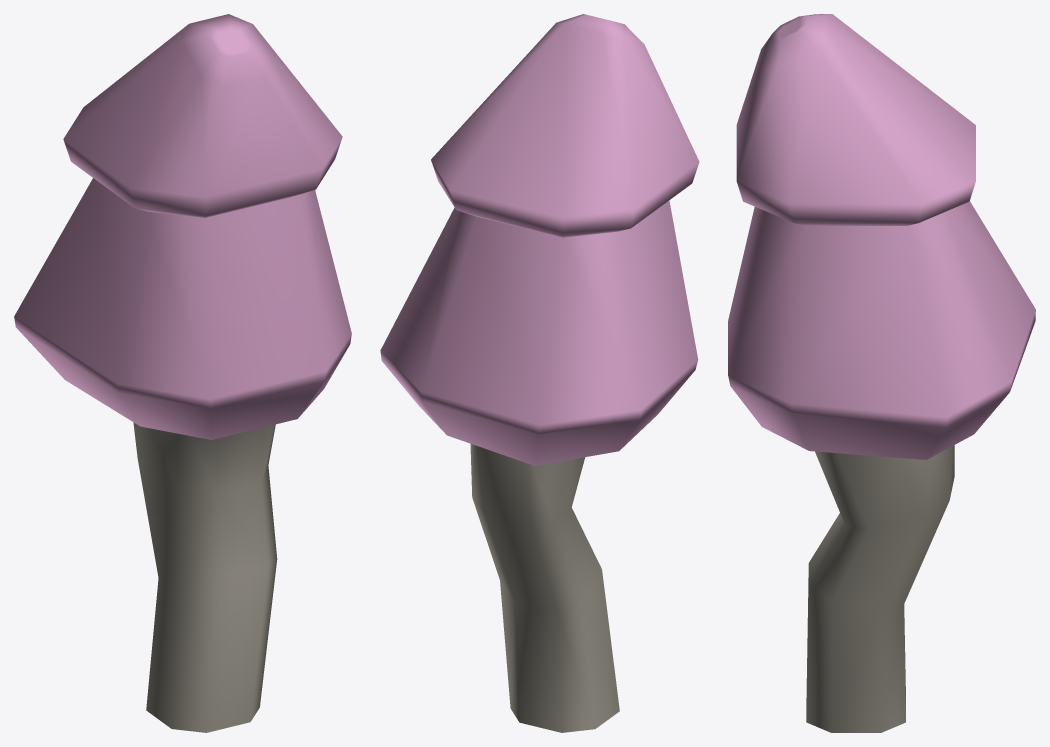
The model's file is Mushroom_01.fbx.
3 views of the same model, side by side, from view 1: azimuth 30°, elevation 25°; view 2: azimuth 150°, elevation 25°; view 3: azimuth 270°, elevation 25° (orthographic). The views are drawn at different scales.
Visible parts, largest first — view 1: Champi_01; view 2: Champi_01; view 3: Champi_01.
Part boxes in pixels (left/top/right/bottom): Champi_01: left=14, top=14, right=351, bottom=732; Champi_01: left=380, top=14, right=699, bottom=732; Champi_01: left=728, top=14, right=1035, bottom=732.
Bounding box in the file's own units: 0.1586 × 0.3809 × 0.1544.
